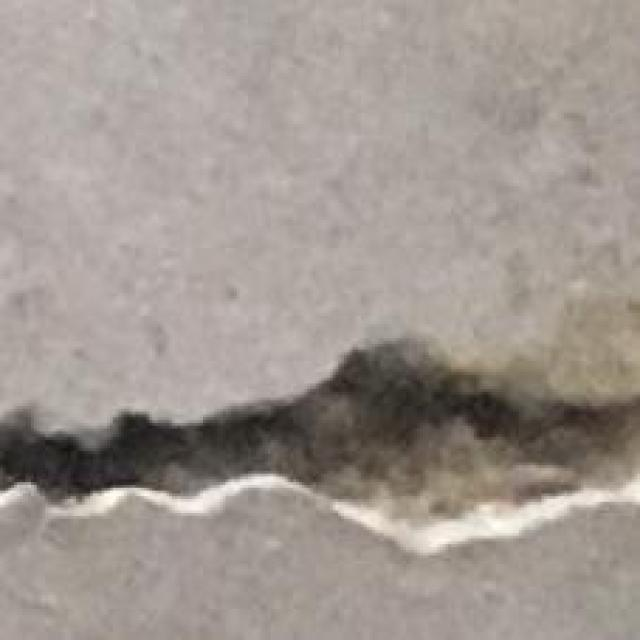horizontal crack: (0, 339, 639, 518)
